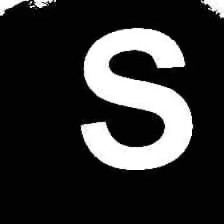LTR_S: (63, 11, 198, 176)
